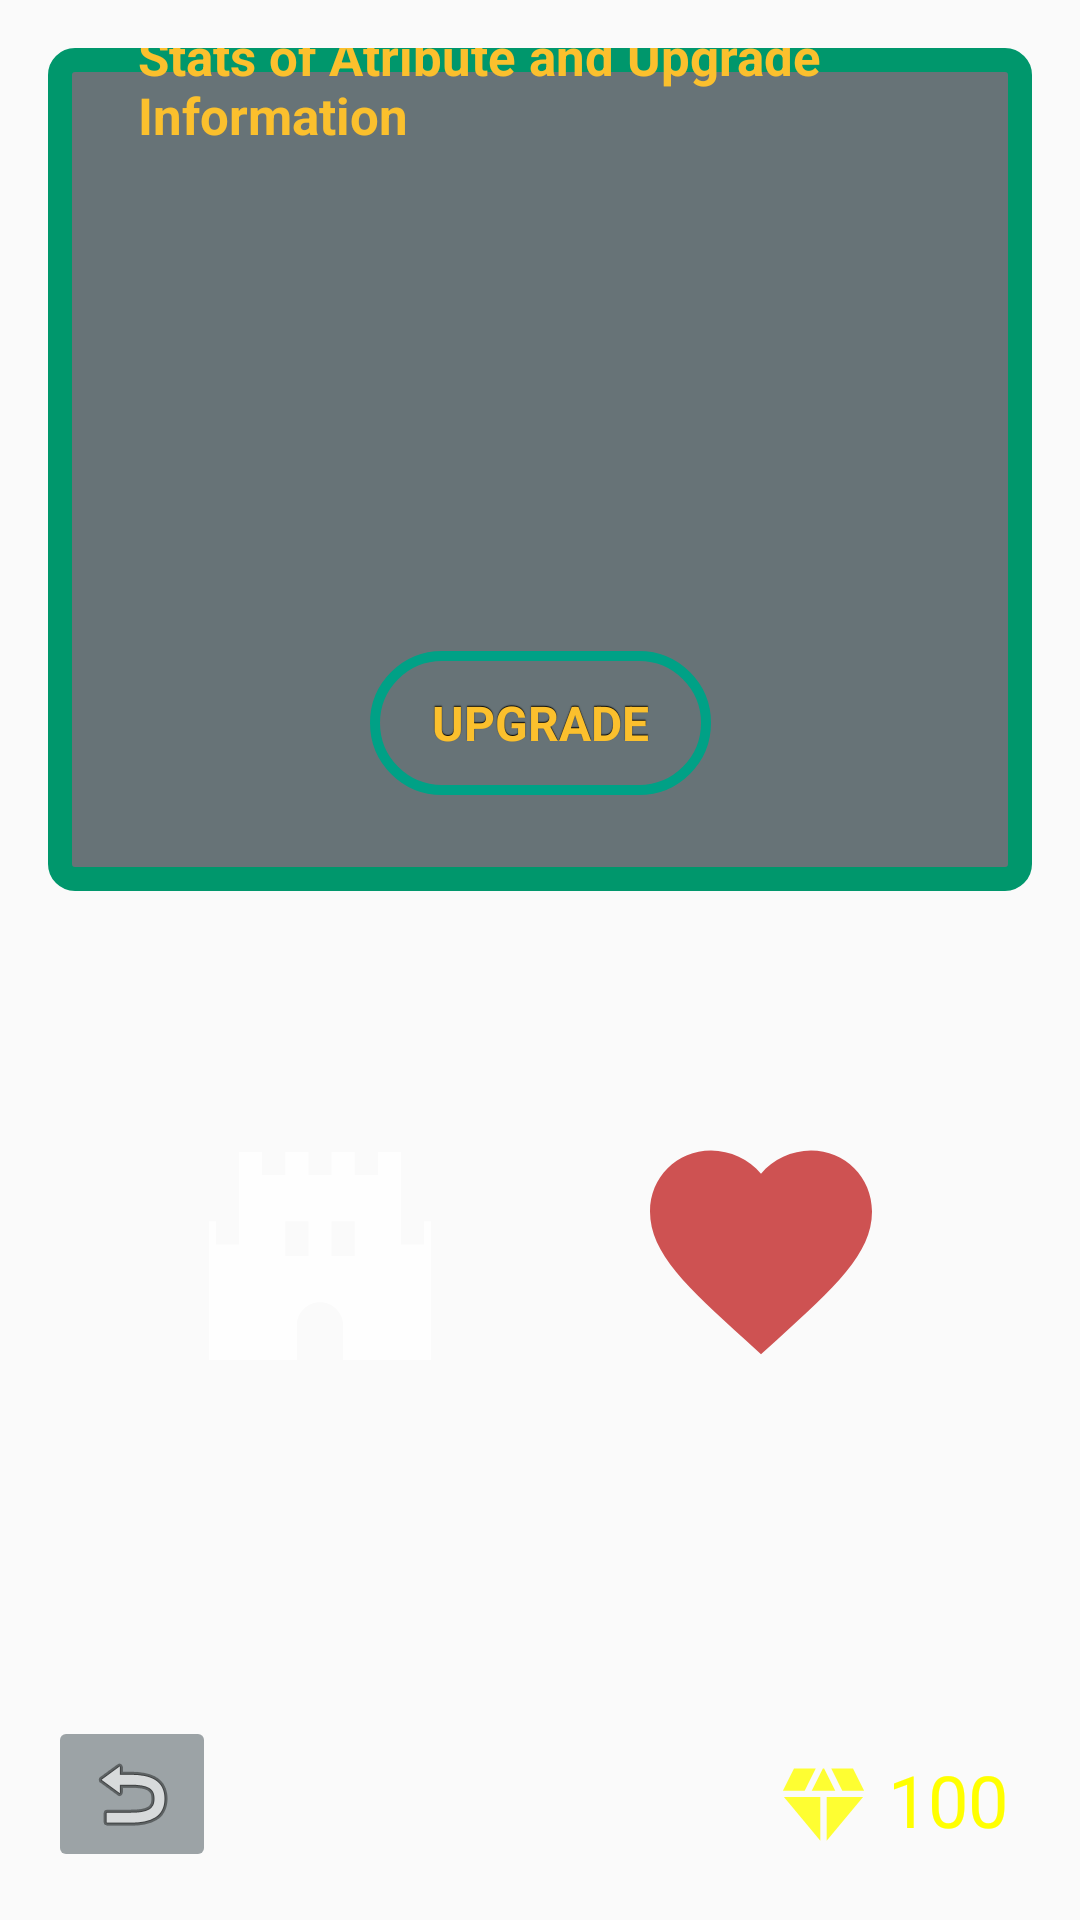

Where to tap for icons on this 1080px x 1920px app screen, as (x,y):
diamond: (823,1804)
revert: (132,1794)
